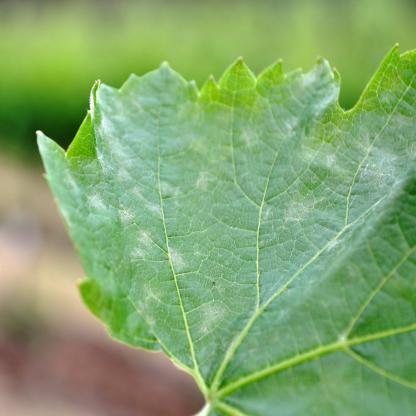Squash Powdery mildew leaf: (38, 30, 416, 401)
